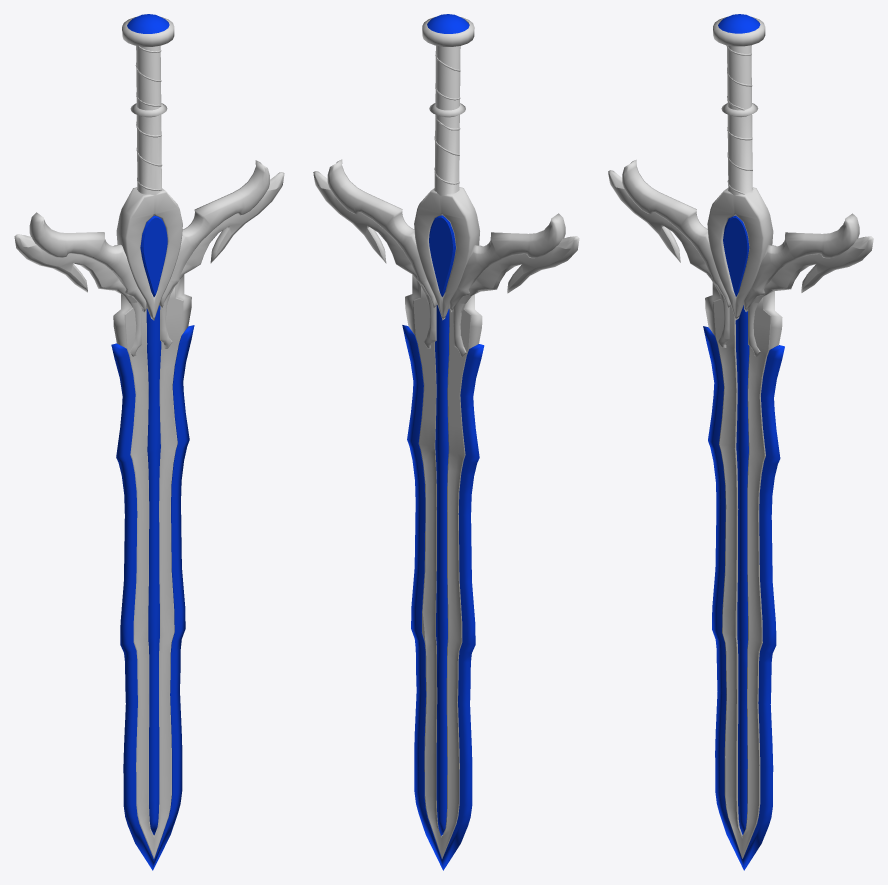
The model's file is uploads_files_620927_crystal_sword_CGT.FBX.
3 renders of one model, left to right at view 1: azimuth 30°, elevation 25°; view 2: azimuth 150°, elevation 25°; view 3: azimuth 330°, elevation 25°, orthographic.
Parts seen in each view (by area): view 1: BladeSteel, BladeOuterCrystal, Guard_1, BladeInnerCrystal, Guard_2, Grip, Socket, Gem, PommelGem; view 2: BladeSteel, BladeOuterCrystal, Guard_1, BladeInnerCrystal, Guard_2, Grip, Socket, Gem, PommelGem; view 3: BladeSteel, BladeOuterCrystal, Guard_1, BladeInnerCrystal, Guard_2, Grip, Socket, Gem, PommelGem.
Boxes of the visible parts, box(x1,y1,x2,y2) form: BladeSteel: box(113, 275, 191, 858); BladeOuterCrystal: box(111, 325, 194, 870); Guard_1: box(29, 160, 269, 312); BladeInnerCrystal: box(146, 305, 161, 834); Guard_2: box(14, 172, 284, 356); Grip: box(122, 17, 174, 195); Socket: box(116, 187, 182, 320); Gem: box(140, 215, 167, 296); PommelGem: box(127, 14, 169, 33); BladeSteel: box(405, 275, 482, 858); BladeOuterCrystal: box(402, 325, 484, 870); Guard_1: box(327, 159, 565, 311); BladeInnerCrystal: box(435, 305, 449, 835); Guard_2: box(313, 171, 579, 356); Grip: box(422, 17, 474, 195); Socket: box(414, 187, 479, 320); Gem: box(429, 215, 455, 296); PommelGem: box(427, 14, 469, 33); BladeSteel: box(705, 282, 782, 858); BladeOuterCrystal: box(703, 326, 784, 870); Guard_1: box(622, 159, 859, 311); BladeInnerCrystal: box(735, 305, 749, 834); Guard_2: box(608, 170, 873, 356); Grip: box(713, 17, 765, 195); Socket: box(707, 187, 773, 319); Gem: box(723, 215, 749, 296); PommelGem: box(718, 14, 760, 33).
Size of the model in its own units: 138 by 419 by 23.22.
